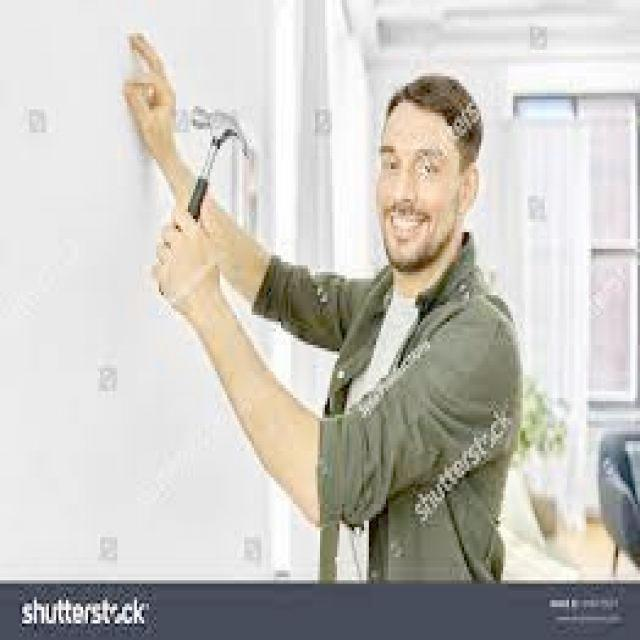hammer: (152, 101, 258, 300)
